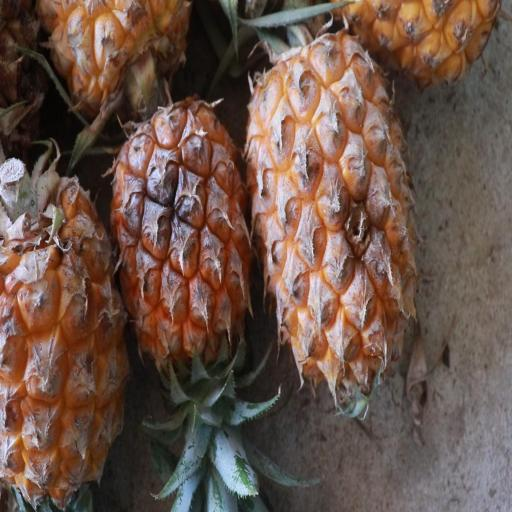Pineapple - v8 v1: (240, 21, 418, 403), (106, 76, 256, 390), (0, 135, 122, 512)
